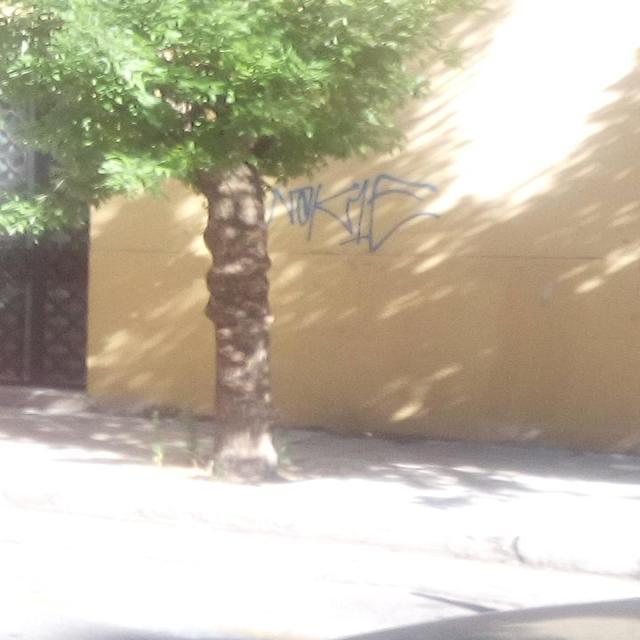nonspitting: (268, 173, 439, 252)
